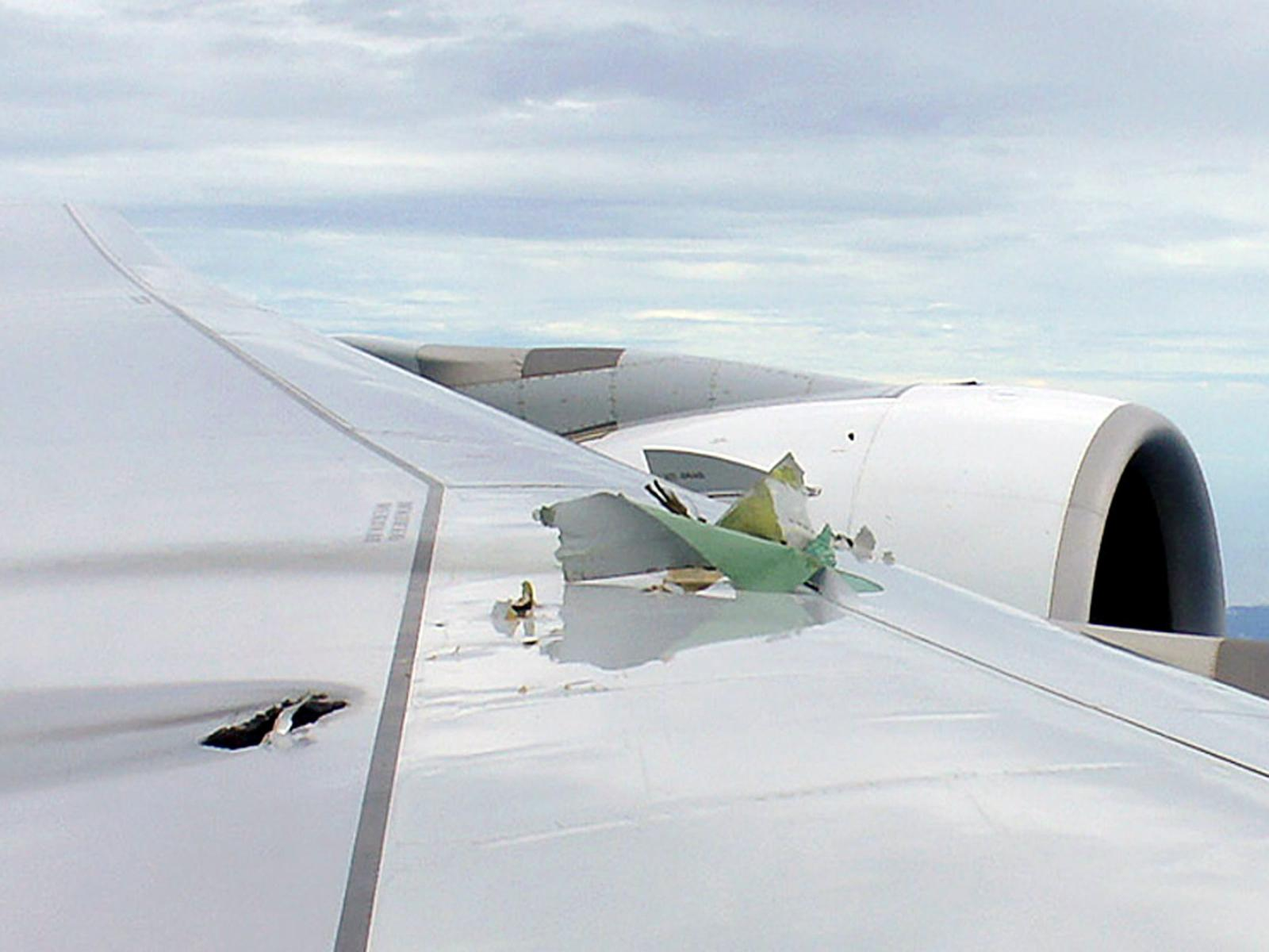Wing_damage: (628, 499, 836, 593), (543, 491, 712, 582), (716, 455, 813, 547), (200, 692, 350, 751), (493, 581, 538, 642)
